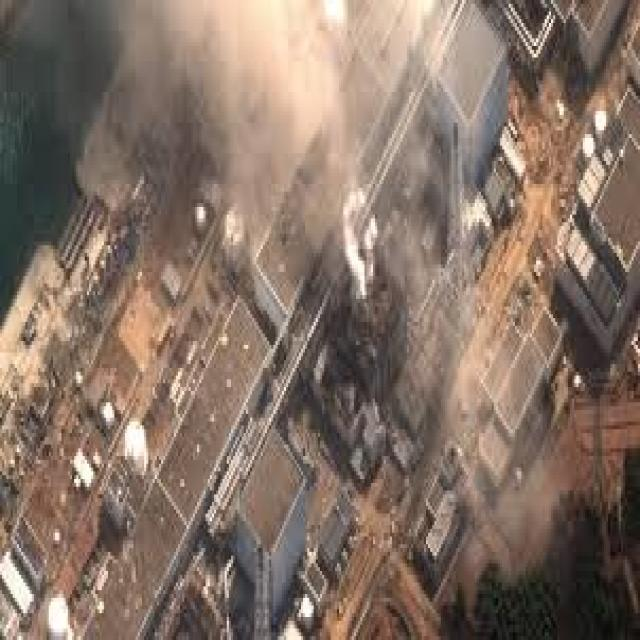Smoke: (402, 302, 567, 576), (210, 0, 378, 231), (380, 2, 511, 296), (40, 0, 209, 216)
